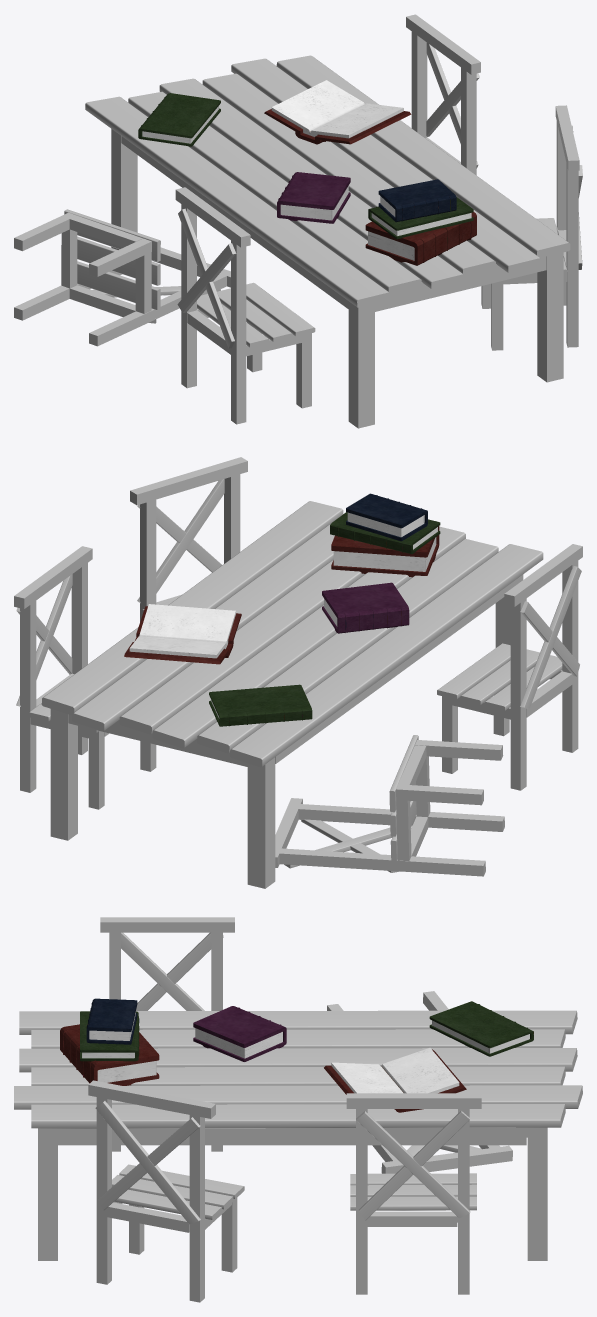
Rendered from SM_TableSet_01.fbx.
The picture shows the model from 3 angles, top to bottom: view 1: azimuth 30°, elevation 25°; view 2: azimuth 150°, elevation 25°; view 3: azimuth 270°, elevation 25°; orthographic projection. The views are drawn at different scales.
Parts seen in each view (by area): view 1: SM_Table_01, SM_Chair_01.003, SM_Chair_01.002, SM_Chair_01.001, SM_Chair_01, BoolShelf_Low.069, BoolShelf_Low.070, BoolShelf_Low.071, BoolShelf_Low.065, BoolShelf_Low.068, BoolShelf_Low.066; view 2: SM_Table_01, SM_Chair_01.003, SM_Chair_01.002, SM_Chair_01.001, SM_Chair_01, BoolShelf_Low.069, BoolShelf_Low.070, BoolShelf_Low.071, BoolShelf_Low.065, BoolShelf_Low.068, BoolShelf_Low.066; view 3: SM_Table_01, SM_Chair_01, SM_Chair_01.001, SM_Chair_01.003, BoolShelf_Low.069, BoolShelf_Low.070, BoolShelf_Low.071, BoolShelf_Low.065, SM_Chair_01.002, BoolShelf_Low.068, BoolShelf_Low.066.
Part boxes in pixels (x1,y1,x2,y2): SM_Table_01: [85, 55, 570, 428]; SM_Chair_01.003: [175, 187, 315, 424]; SM_Chair_01.002: [14, 209, 230, 346]; SM_Chair_01.001: [406, 14, 480, 175]; SM_Chair_01: [481, 105, 582, 350]; BoolShelf_Low.069: [264, 80, 411, 144]; BoolShelf_Low.070: [277, 172, 350, 223]; BoolShelf_Low.071: [138, 93, 220, 146]; BoolShelf_Low.065: [365, 212, 476, 265]; BoolShelf_Low.068: [378, 179, 456, 222]; BoolShelf_Low.066: [368, 197, 473, 239]; SM_Table_01: [41, 501, 543, 888]; SM_Chair_01.003: [437, 544, 582, 790]; SM_Chair_01.002: [275, 735, 504, 876]; SM_Chair_01.001: [14, 546, 156, 809]; SM_Chair_01: [130, 457, 247, 621]; BoolShelf_Low.069: [124, 604, 241, 664]; BoolShelf_Low.070: [322, 582, 409, 633]; BoolShelf_Low.071: [209, 684, 312, 726]; BoolShelf_Low.065: [331, 526, 439, 577]; BoolShelf_Low.068: [346, 493, 427, 541]; BoolShelf_Low.066: [330, 512, 440, 554]; SM_Table_01: [14, 1010, 582, 1260]; SM_Chair_01: [88, 1080, 244, 1302]; SM_Chair_01.001: [346, 1093, 481, 1294]; SM_Chair_01.003: [100, 917, 234, 1151]; BoolShelf_Low.069: [324, 1048, 466, 1112]; BoolShelf_Low.070: [193, 1006, 286, 1061]; BoolShelf_Low.071: [429, 1001, 533, 1056]; BoolShelf_Low.065: [60, 1024, 159, 1085]; SM_Chair_01.002: [327, 991, 512, 1173]; BoolShelf_Low.068: [86, 998, 137, 1044]; BoolShelf_Low.066: [80, 1011, 139, 1061].
Size of the model in its own units: 275 by 112 by 294.
